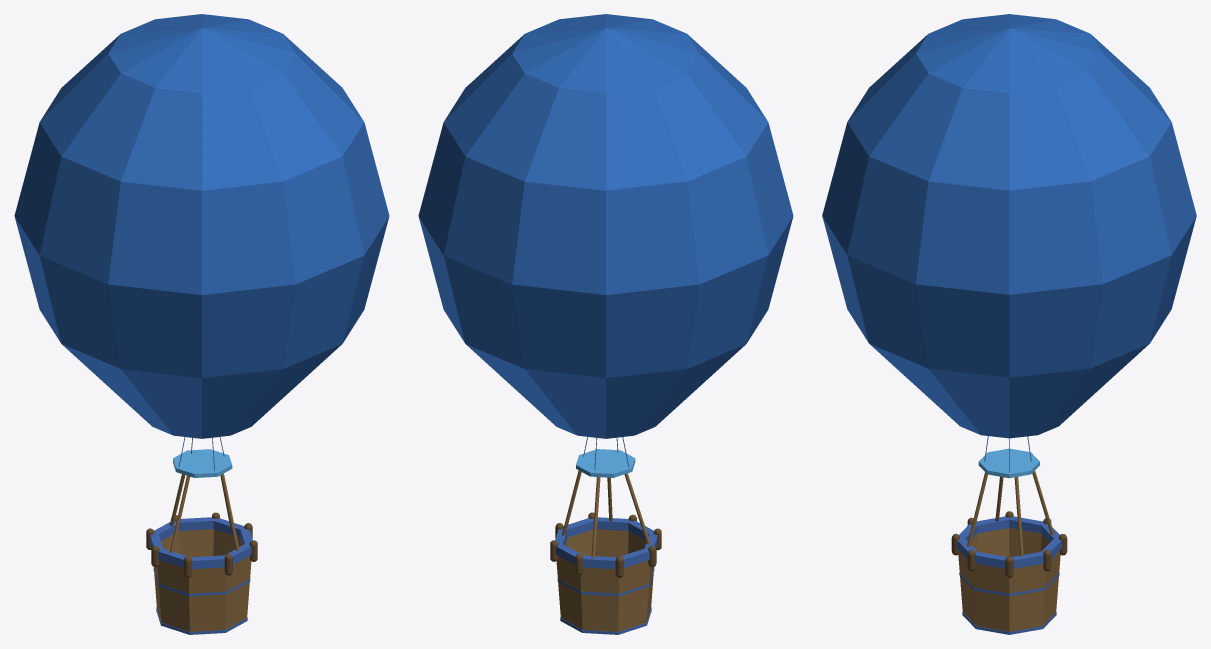
Rendered from hab.gltf.
3 renders of one model, left to right at view 1: azimuth 30°, elevation 25°; view 2: azimuth 150°, elevation 25°; view 3: azimuth 270°, elevation 25°, orthographic.
Visible parts, largest first — view 1: node-0; view 2: node-0; view 3: node-0.
Boxes of the visible parts, bbox=[...] form: node-0: bbox=[14, 14, 389, 634]; node-0: bbox=[418, 14, 793, 634]; node-0: bbox=[822, 14, 1196, 634].
Size of the model in its own units: 280 by 484 by 280.
1 material, 1 textured.
